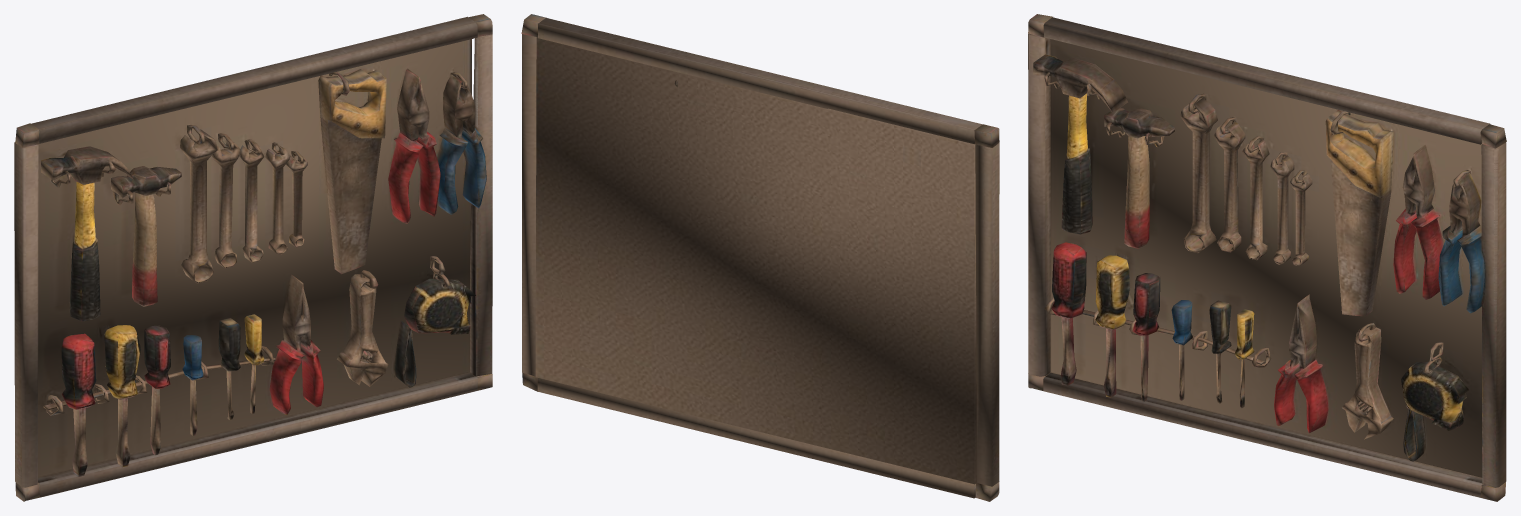
Rendered from p7-tool-pegboard-t25.glb.
3 renders of one model, left to right at view 1: azimuth 30°, elevation 25°; view 2: azimuth 150°, elevation 25°; view 3: azimuth 330°, elevation 25°, orthographic.
Parts seen in each view (by area): view 1: p7-tool-pegboard-t25; view 2: p7-tool-pegboard-t25; view 3: p7-tool-pegboard-t25.
Boxes of the visible parts, <box> form: p7-tool-pegboard-t25: <box>14,14,492,501</box>; p7-tool-pegboard-t25: <box>521,14,999,501</box>; p7-tool-pegboard-t25: <box>1028,14,1506,501</box>.
Bounding box in the file's own units: 1.2 × 0.9 × 0.12.
Materials: 1 (1 with a texture image).
